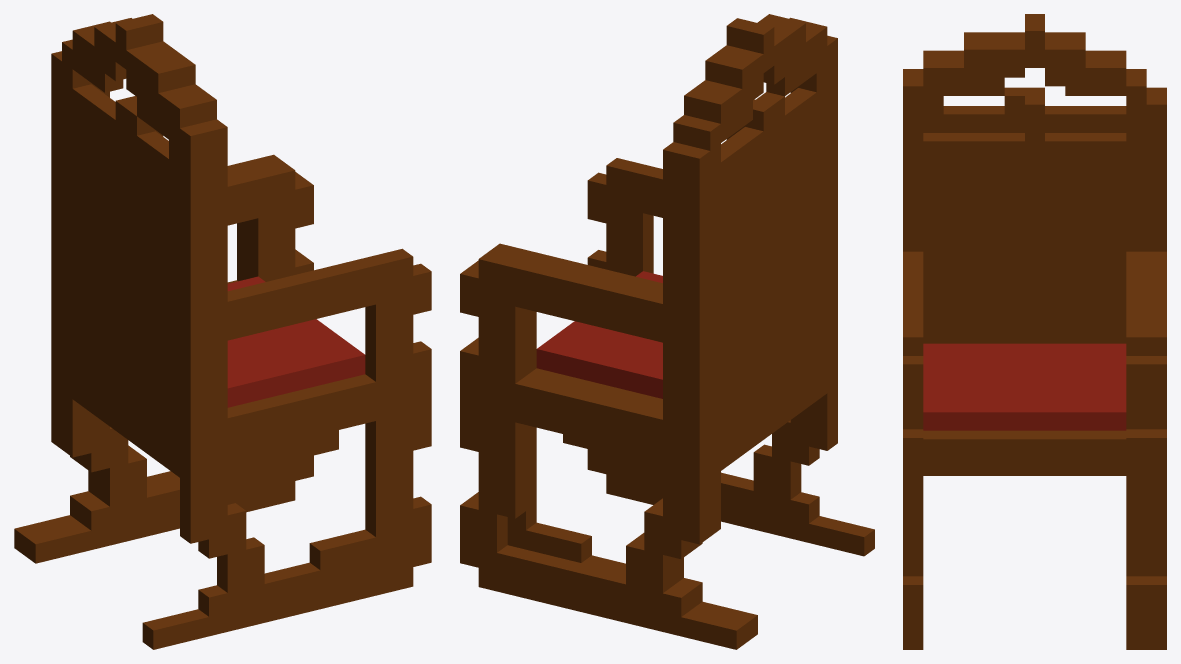
The model's file is chair_4.obj.
The picture shows the model from 3 angles, left to right: view 1: azimuth 30°, elevation 25°; view 2: azimuth 150°, elevation 25°; view 3: azimuth 270°, elevation 25°; orthographic projection. The views are drawn at different scales.
Size of the model in its own units: 1.5 by 2.9 by 1.3.
1 material, 1 textured.
